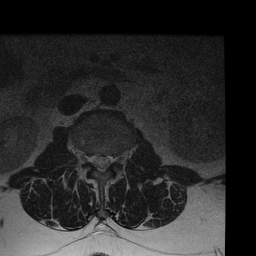CCS_normal: (97, 147, 104, 176)
LFS_normal: (111, 149, 118, 168)
LLS_normal: (104, 148, 110, 172)
RFS_normal: (84, 148, 91, 168)
RLS_normal: (91, 148, 97, 172)
